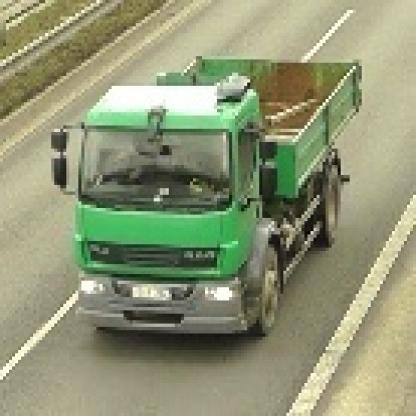truck: (49, 51, 360, 338)
